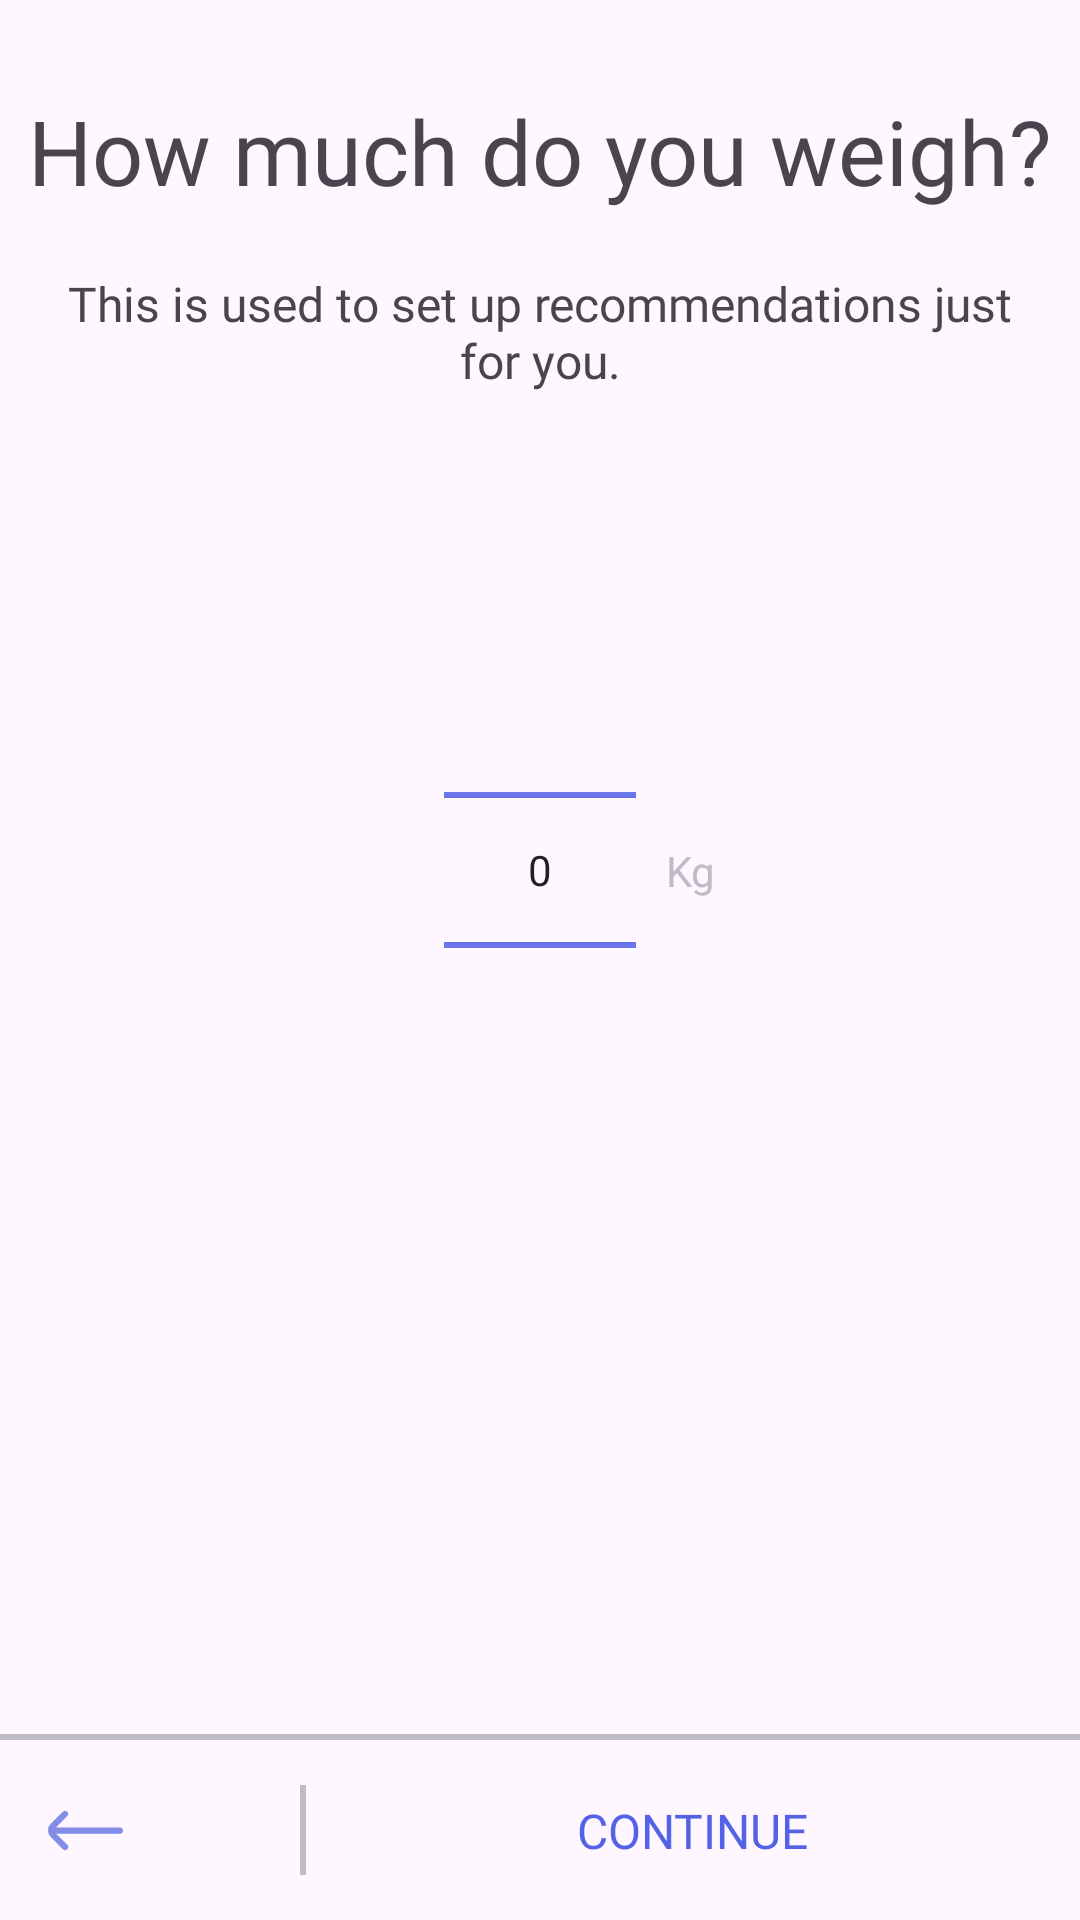

Icons on this 1080px x 1920px Android screen, each with its box as (x1, y1, x2, y2):
arrow left: (48, 1811, 123, 1850)
